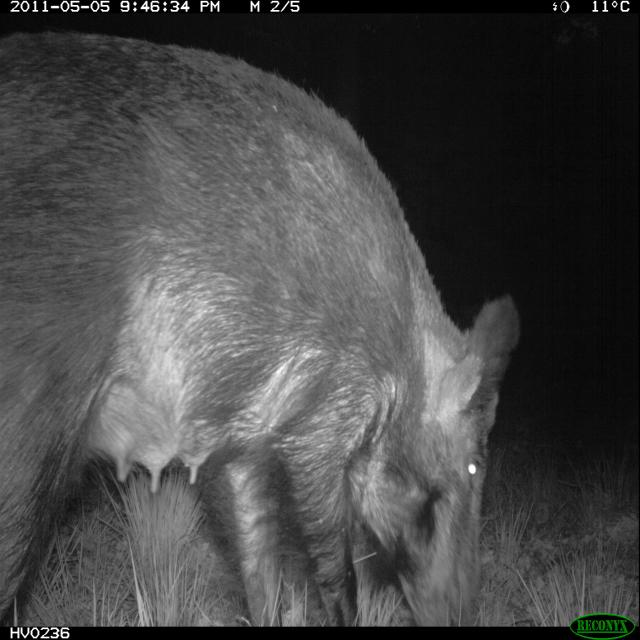boar: (0, 9, 584, 640)
